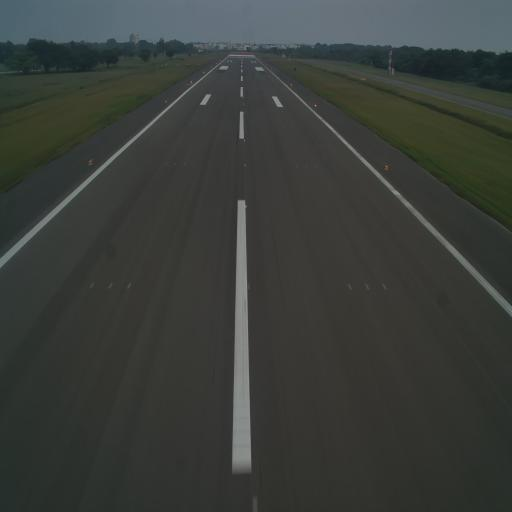off: (88, 278, 98, 294), (362, 278, 372, 292), (107, 277, 114, 295), (380, 277, 389, 291), (344, 278, 352, 292), (126, 278, 132, 291), (173, 157, 178, 171), (313, 162, 319, 171), (163, 158, 168, 168), (182, 160, 187, 170), (247, 280, 252, 290), (305, 163, 309, 173), (294, 164, 298, 172)
on: (243, 200, 249, 211), (86, 159, 94, 167), (242, 161, 248, 171), (385, 161, 390, 172)
